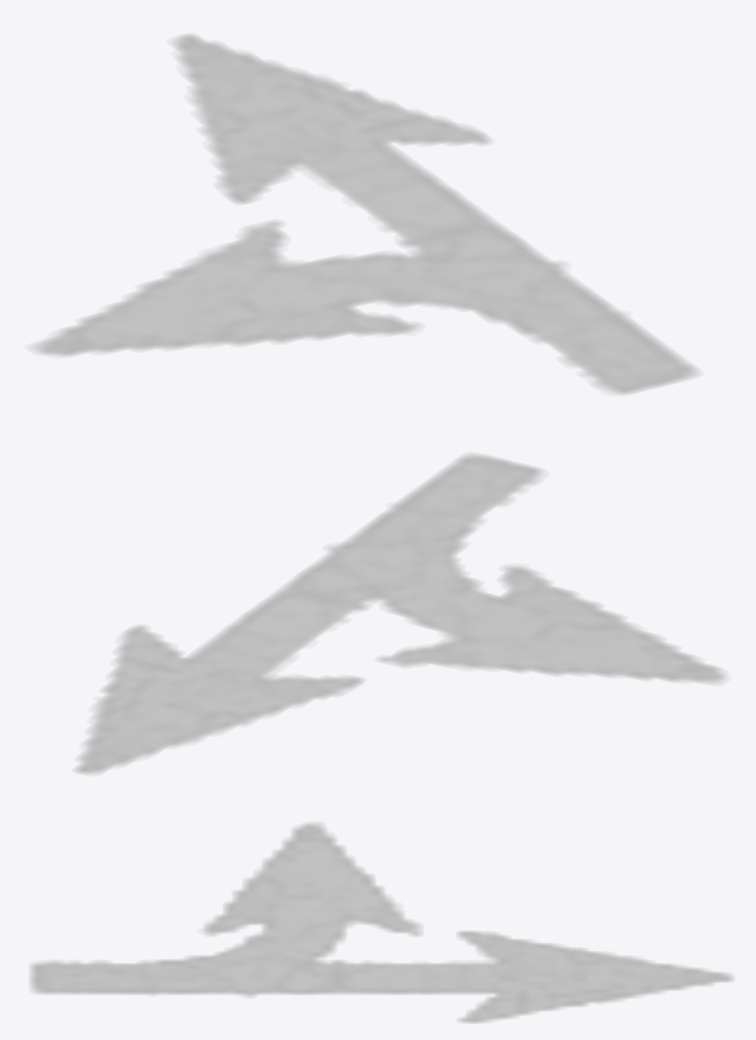
File: decal_arrowforwardleft.glb
3 renders of one model, top to bottom at view 1: azimuth 30°, elevation 25°; view 2: azimuth 150°, elevation 25°; view 3: azimuth 270°, elevation 25°, orthographic. The views are drawn at different scales.
Parts seen in each view (by area): view 1: Decal_ArrowForwardLeft; view 2: Decal_ArrowForwardLeft; view 3: Decal_ArrowForwardLeft.
Part boxes in pixels (box(x1,y1,x2,y2)): Decal_ArrowForwardLeft: box(35, 35, 696, 393); Decal_ArrowForwardLeft: box(75, 455, 724, 773); Decal_ArrowForwardLeft: box(30, 824, 732, 1022).
Bounding box in the file's own units: 1.78 × 0 × 2.67.
Materials: 1 (1 with a texture image).
